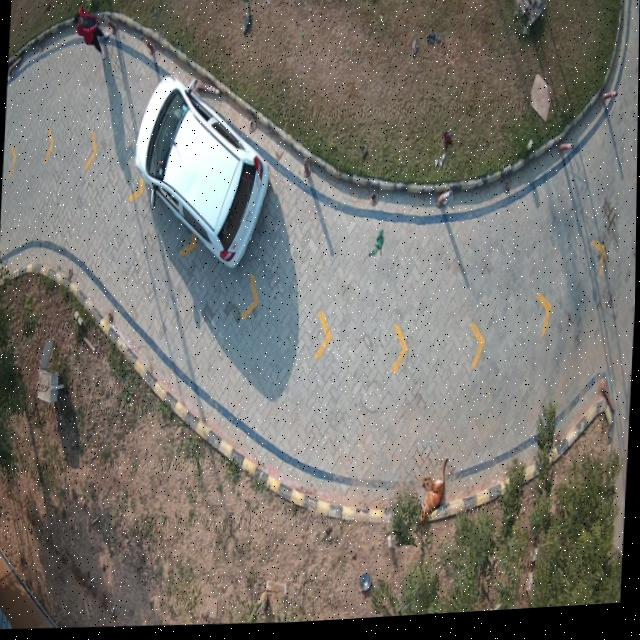car: (136, 78, 268, 269)
